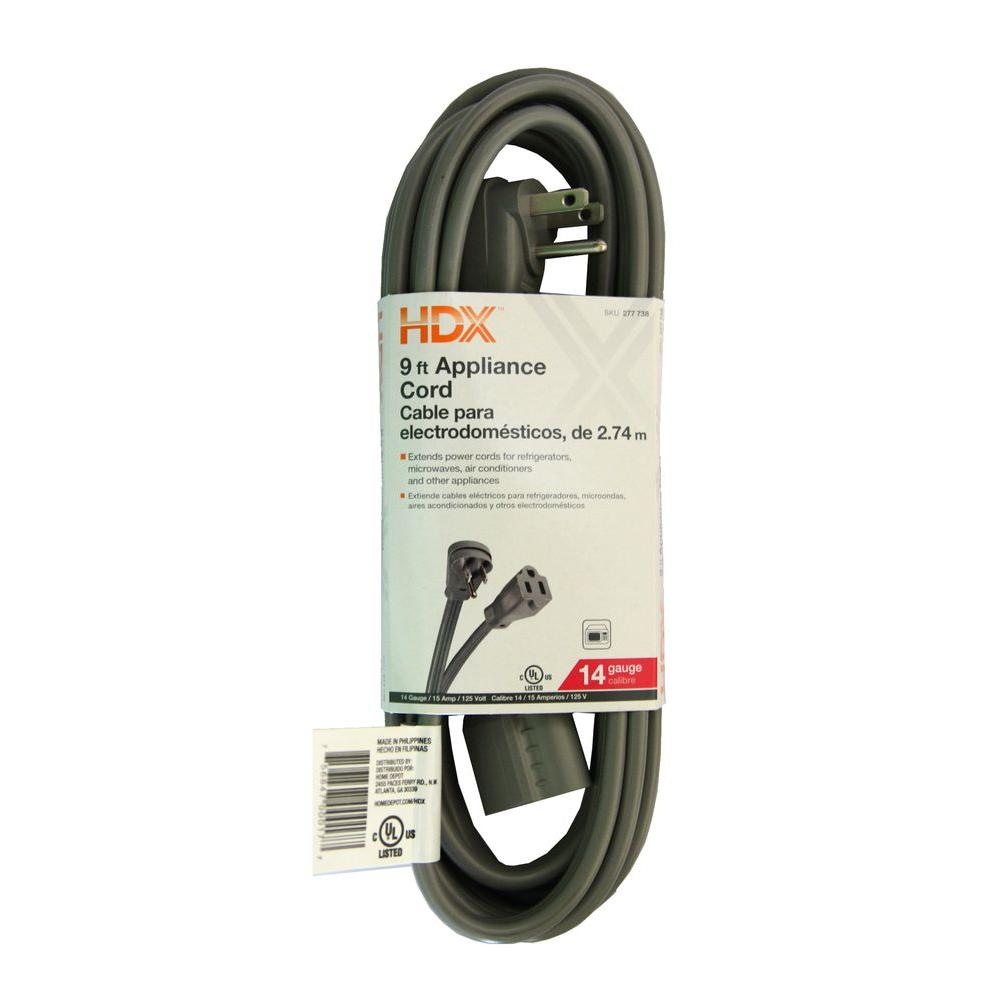Nonrec_Tangler: (345, 72, 763, 928)
